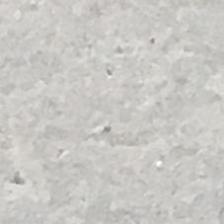Non_Crack: (17, 27, 224, 224)
